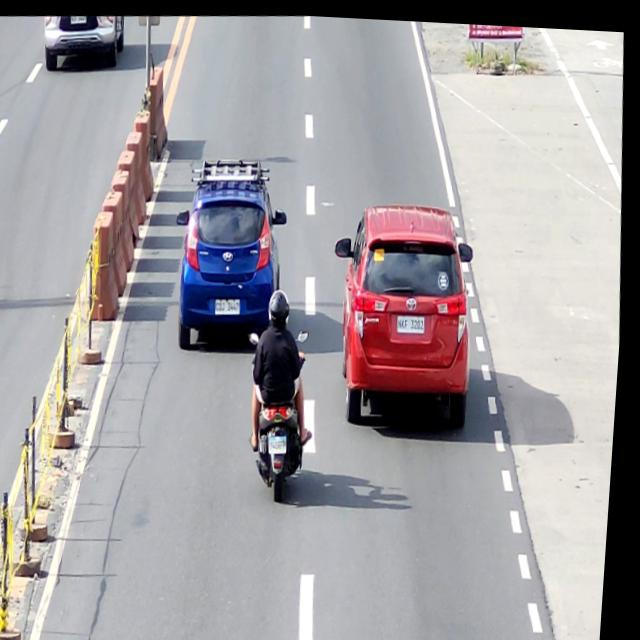Car: (326, 193, 488, 429), (169, 150, 300, 352), (41, 12, 127, 74)
License-Plate: (398, 299, 435, 334), (271, 430, 296, 455), (218, 294, 246, 315), (70, 14, 87, 25)
Motorcycle: (244, 323, 322, 501)
